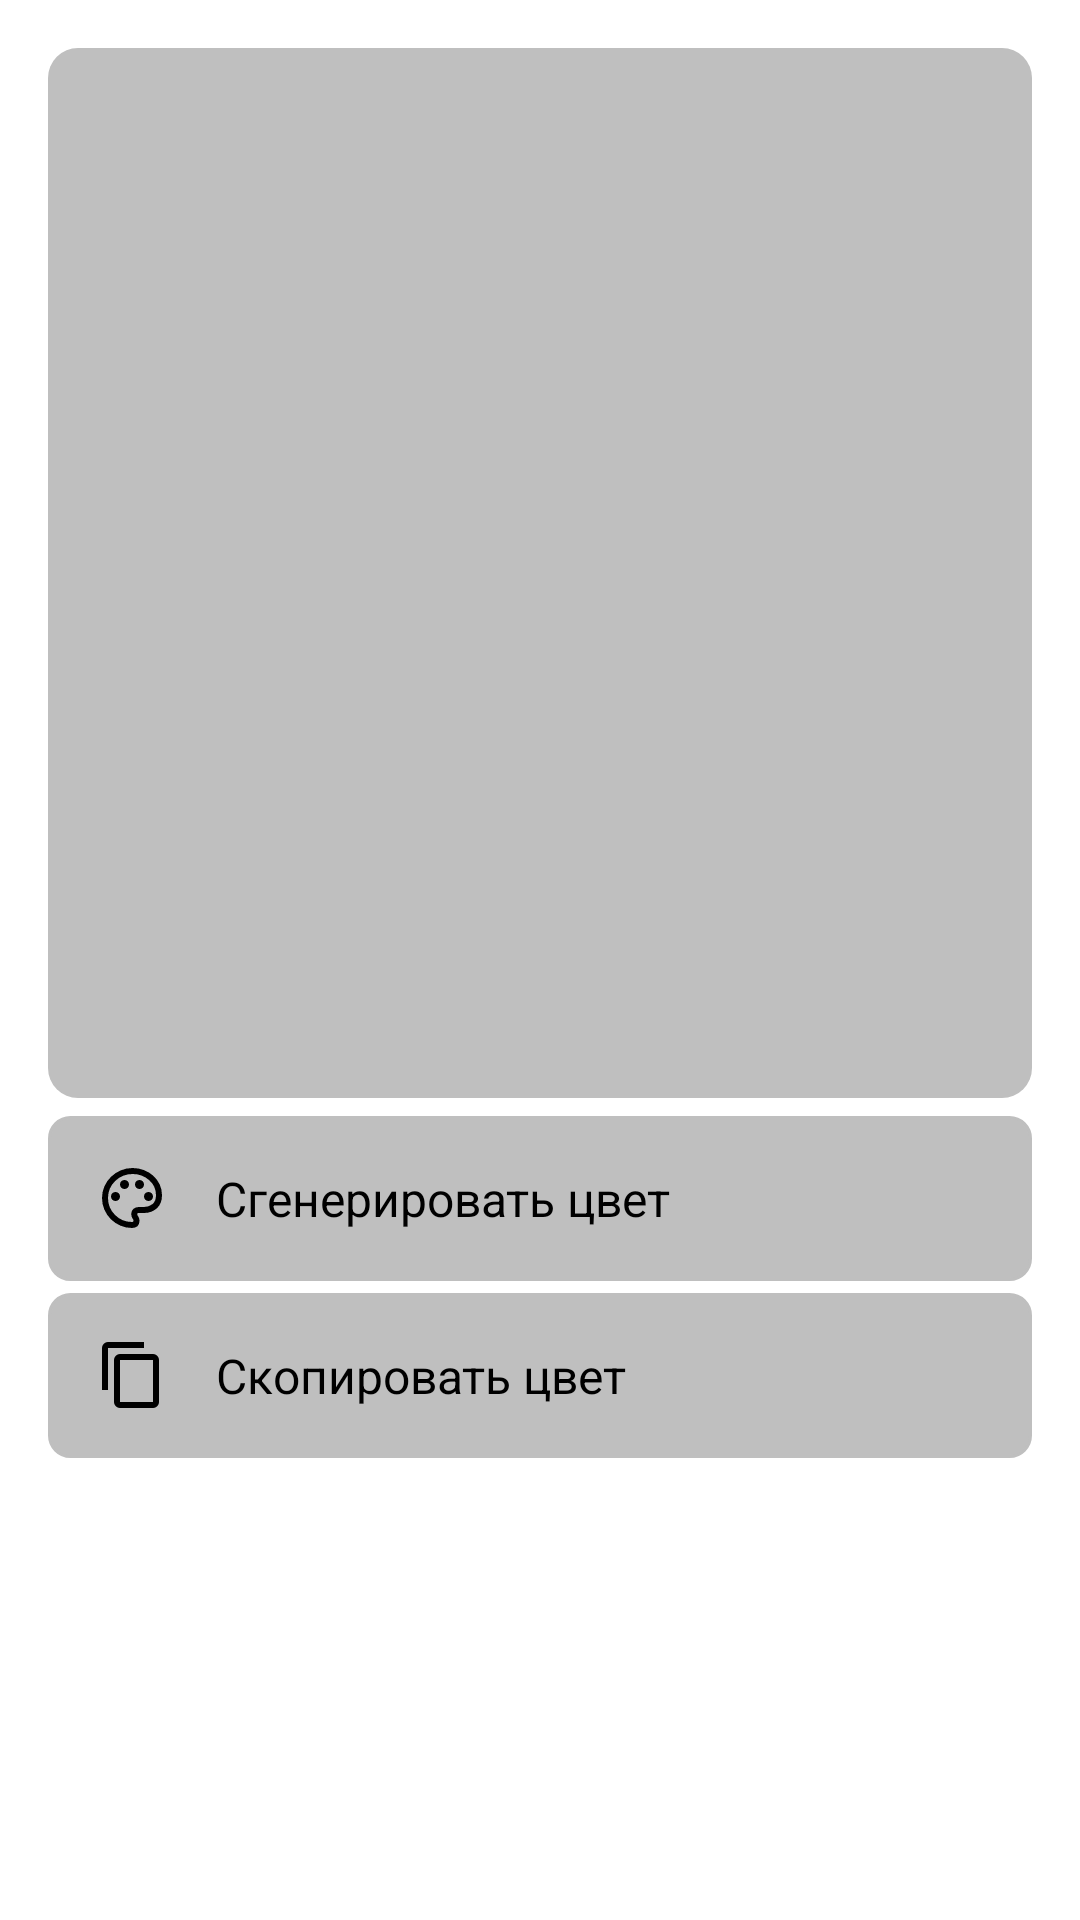

Icon click points for this 1080w x 1920h phone screenshot, format (x,y):
palette: (132,1198)
